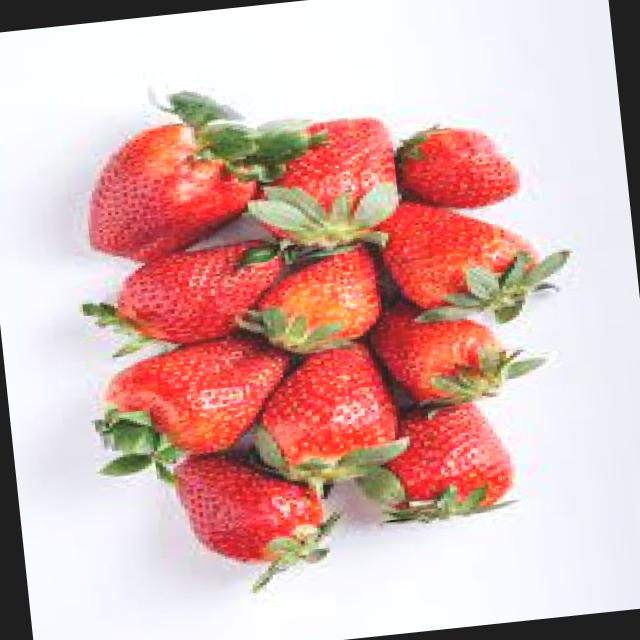strawberry: (74, 88, 268, 264), (78, 234, 296, 365), (162, 434, 350, 585), (380, 184, 568, 316), (248, 338, 396, 495), (250, 106, 404, 252), (389, 394, 518, 524), (384, 302, 536, 406), (403, 112, 533, 210), (266, 248, 384, 348)
